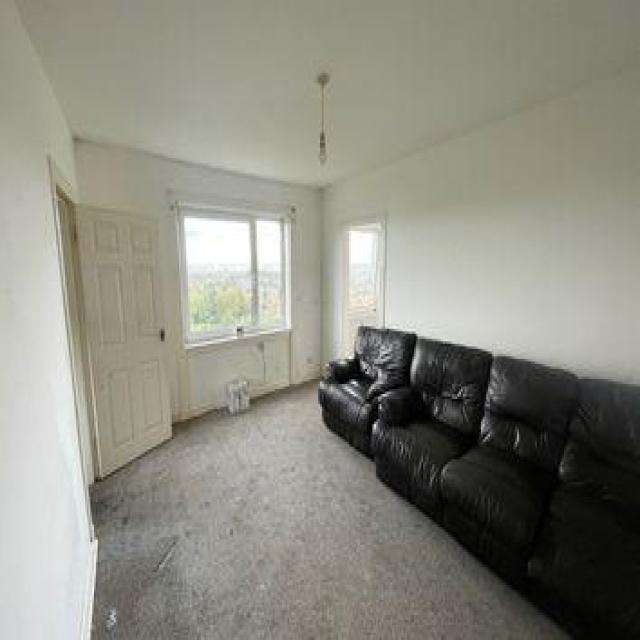Wall: (91, 384, 565, 639), (19, 1, 640, 185), (324, 76, 640, 383), (74, 141, 321, 421), (0, 0, 96, 638), (186, 338, 263, 417), (264, 331, 290, 388)
